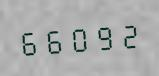nine: (90, 19, 113, 53)
six: (18, 24, 41, 58), (42, 22, 65, 56)
two: (114, 17, 137, 51)
zero: (66, 20, 89, 55)
